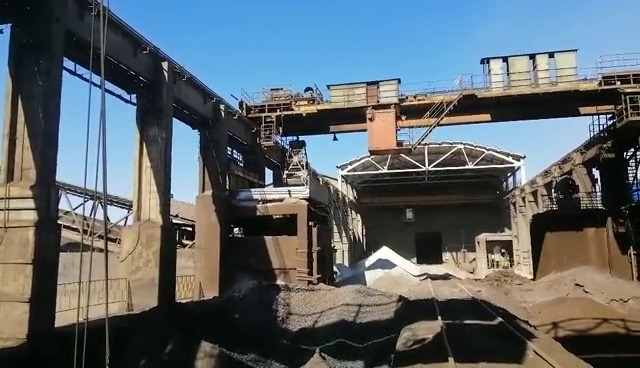grab: (277, 139, 313, 187)
